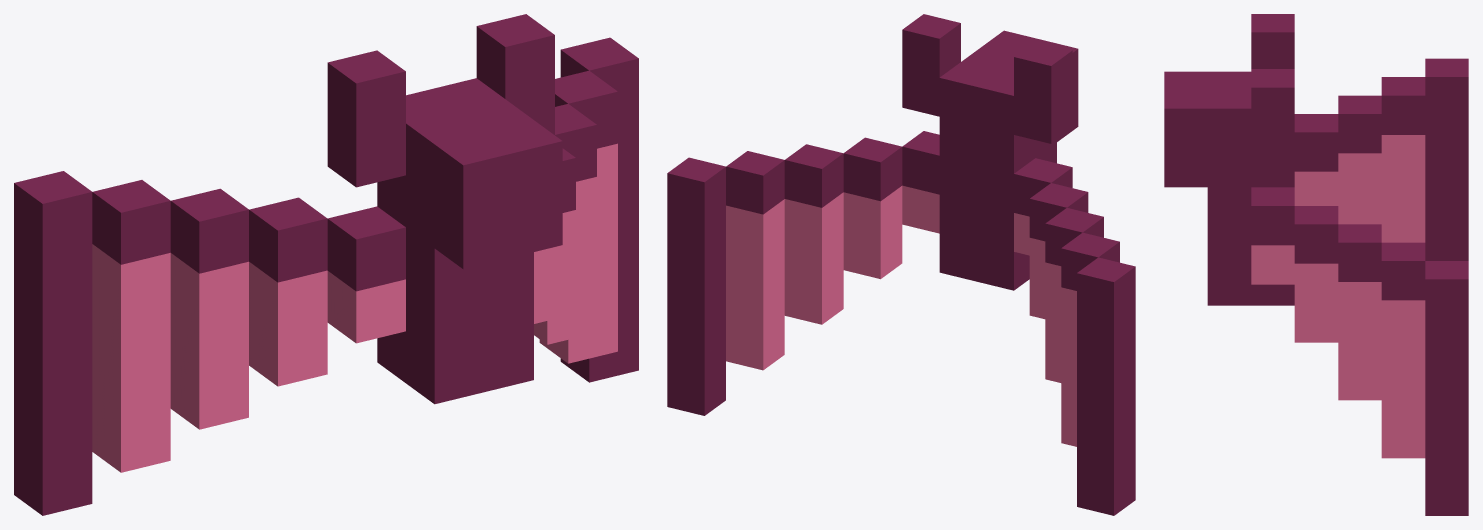
Rendered from bat_action_0.obj.
The picture shows the model from 3 angles, left to right: view 1: azimuth 30°, elevation 25°; view 2: azimuth 150°, elevation 25°; view 3: azimuth 270°, elevation 25°; orthographic projection. The views are drawn at different scales.
Size of the model in its own units: 1.2 by 0.9 by 0.7.
1 material, 1 textured.
